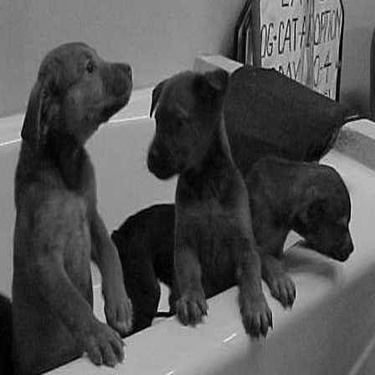dog: (3, 31, 137, 371), (109, 155, 357, 337), (137, 63, 276, 340)
